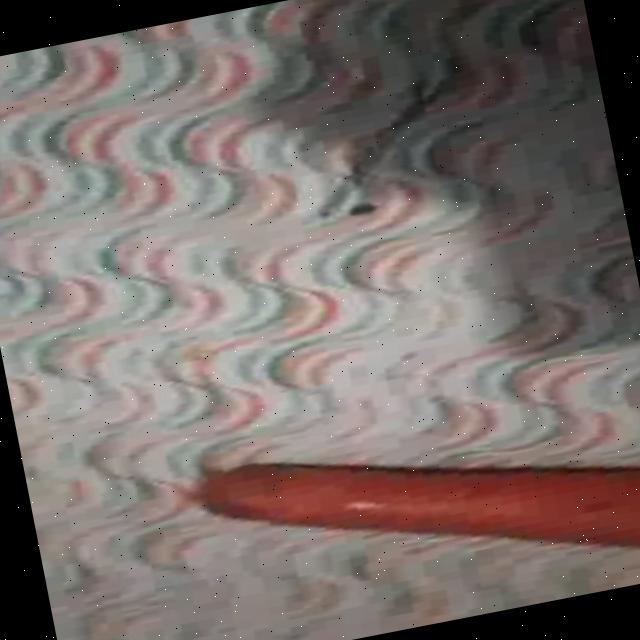carrot: (203, 464, 640, 547)
